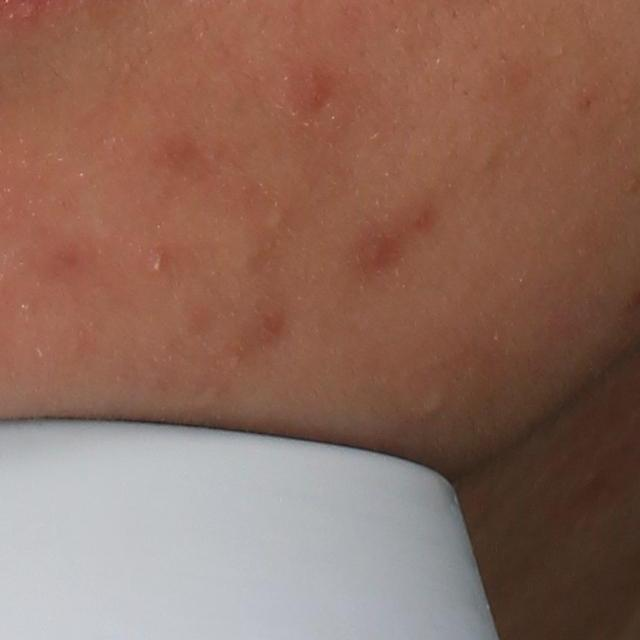comedo: (419, 388, 452, 422)
